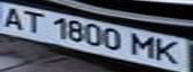0: (81, 21, 106, 48), (103, 26, 127, 53)
1: (45, 15, 69, 40)
8: (66, 18, 84, 45)
A: (0, 3, 30, 30)
K: (151, 37, 187, 66)
M: (127, 31, 160, 60)
T: (18, 9, 48, 34)
